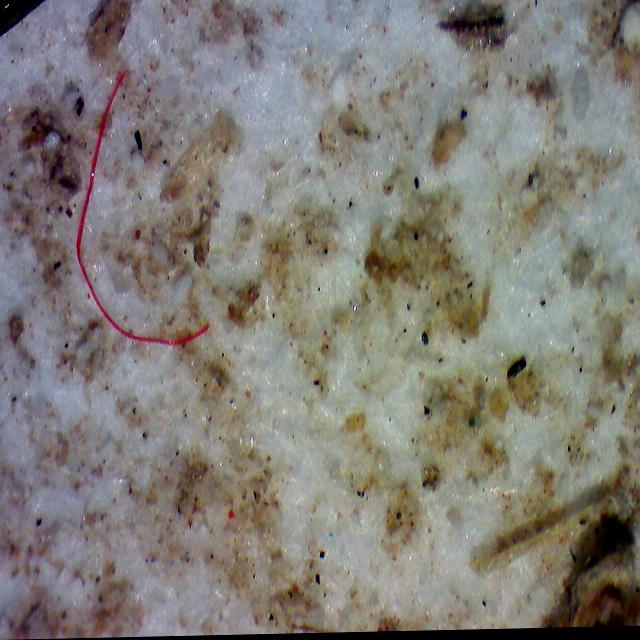microplastic: (24, 67, 216, 371)
